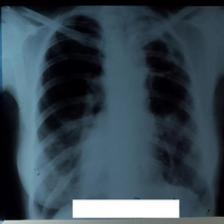tuberculosis: (29, 9, 215, 216)
